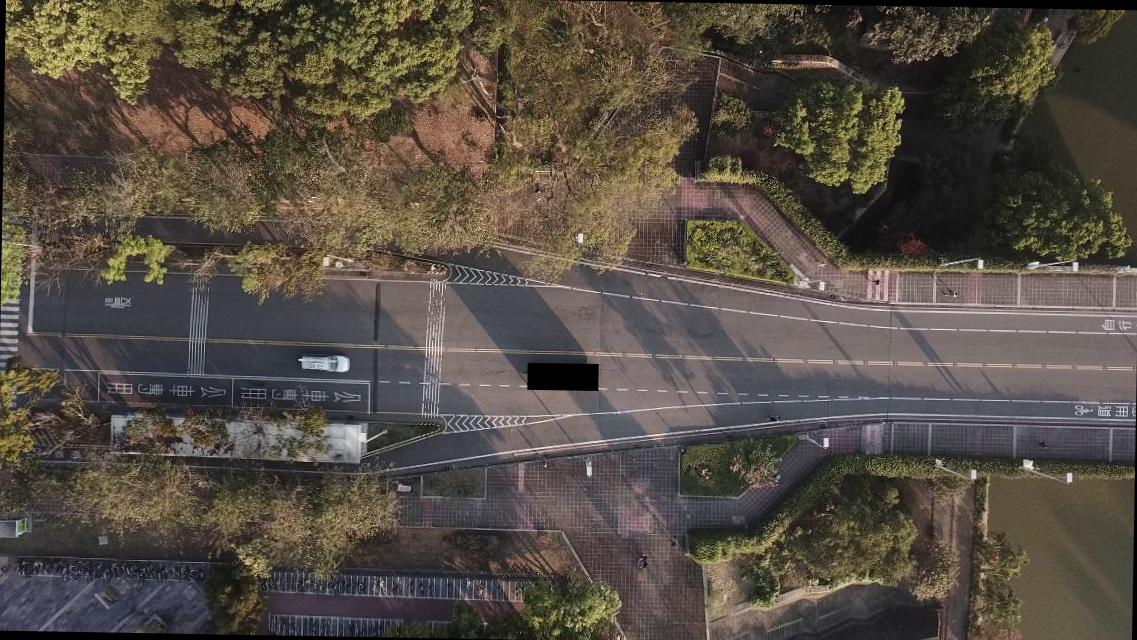vehicle: (297, 353, 351, 373)
